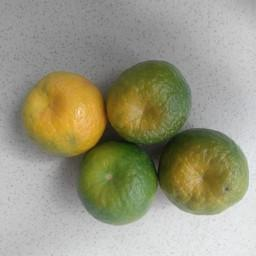Good_orange: (17, 66, 104, 157), (165, 127, 249, 213), (107, 55, 188, 143), (82, 140, 152, 219)
